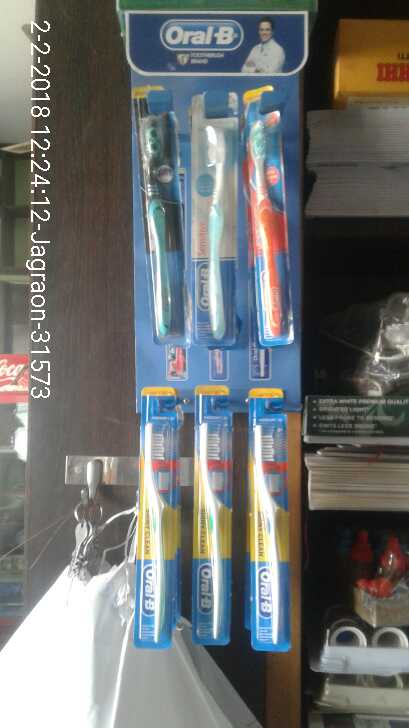oralb: (132, 399, 175, 655), (137, 104, 183, 338), (250, 114, 294, 346), (192, 396, 232, 646), (250, 411, 292, 649), (190, 119, 231, 342)
